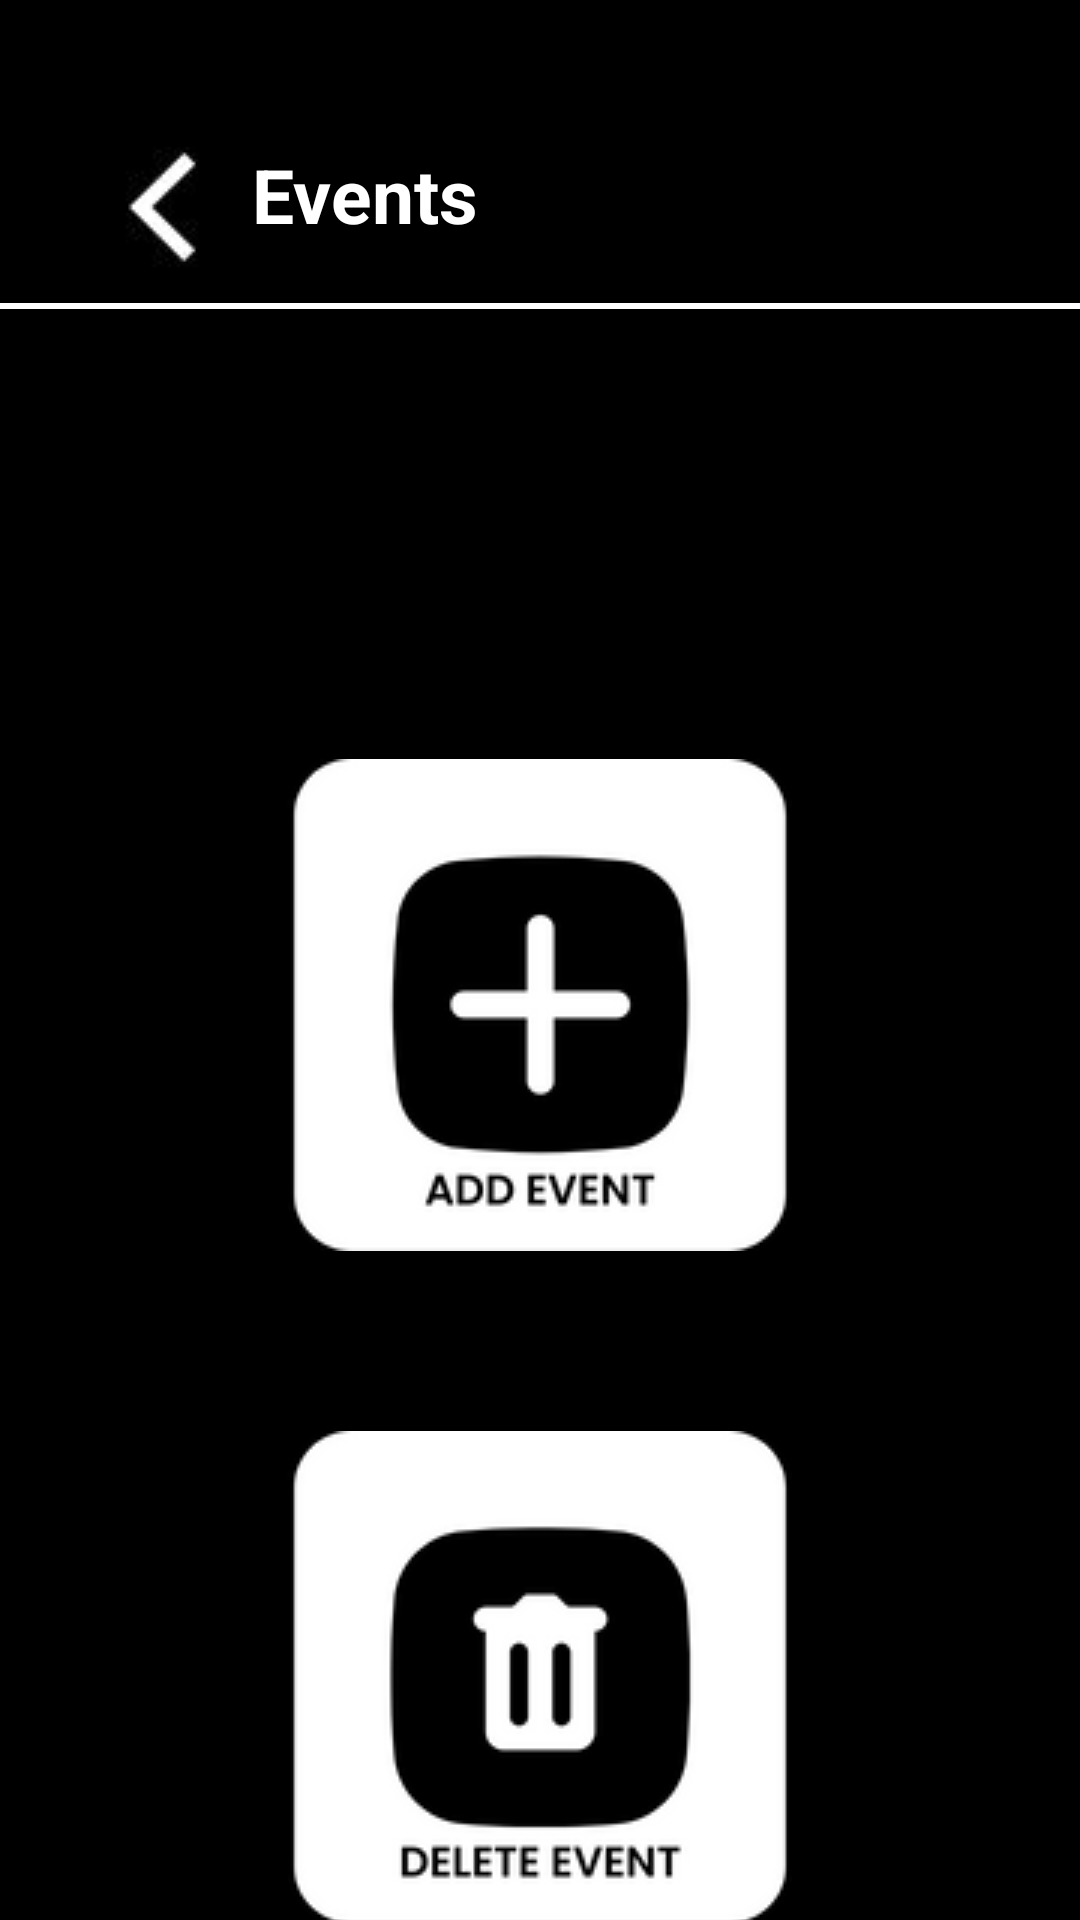

Named icons in this screenshot (1080 × 1920) and their centers, (x,y):
back: (162,207)
